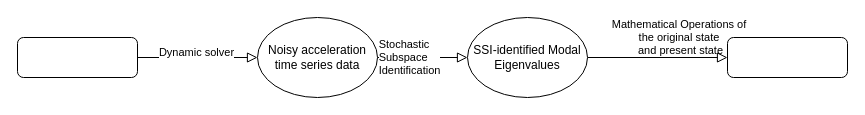
This 865x115 diagram has some shape labels left out. The box of each missing label's shape, as (x1, y1, x2, y2) in pixels:
Benchmark FE model: (16, 36, 138, 78)
Damage Sensitive Features: (726, 36, 848, 78)
